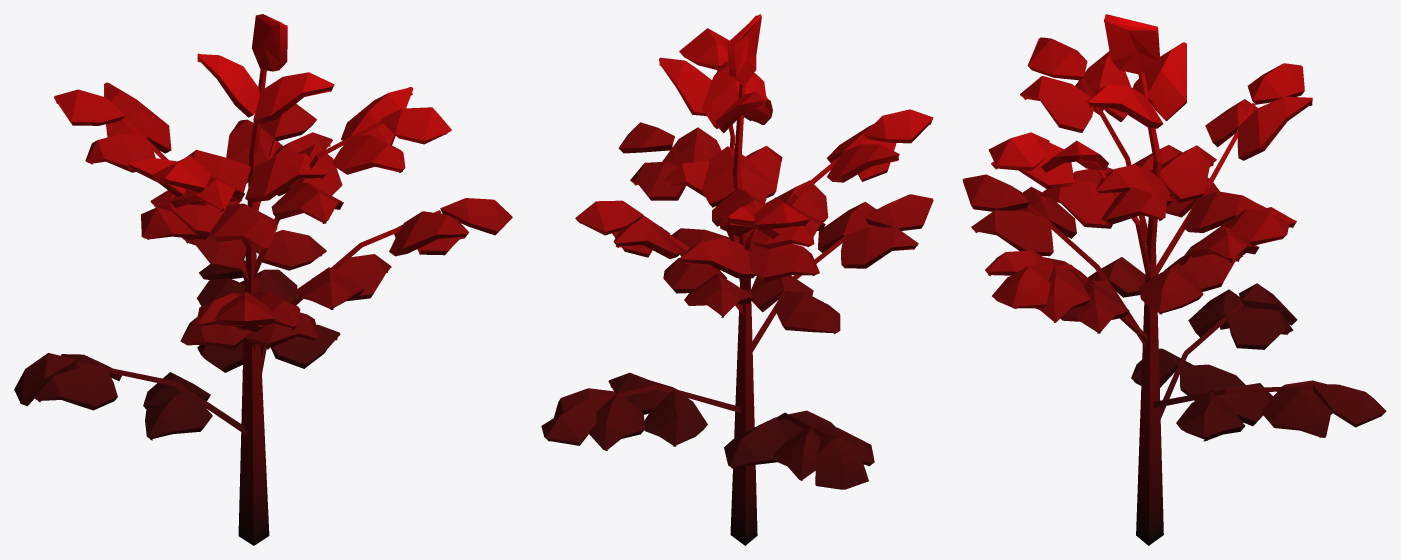
Rendered from TreeWalnutSmall03.fbx.
3 views of the same model, side by side, from view 1: azimuth 30°, elevation 25°; view 2: azimuth 150°, elevation 25°; view 3: azimuth 270°, elevation 25° (orthographic). The views are drawn at different scales.
Parts seen in each view (by area): view 1: TreeWalnutSmall03_LOD0; view 2: TreeWalnutSmall03_LOD0; view 3: TreeWalnutSmall03_LOD0.
Boxes of the visible parts, x1=… form: TreeWalnutSmall03_LOD0: x1=14, y1=14, x2=512, y2=545; TreeWalnutSmall03_LOD0: x1=541, y1=14, x2=933, y2=545; TreeWalnutSmall03_LOD0: x1=962, y1=14, x2=1386, y2=545.
Size of what is drawn, in the model's own units: 102 by 140 by 102.
